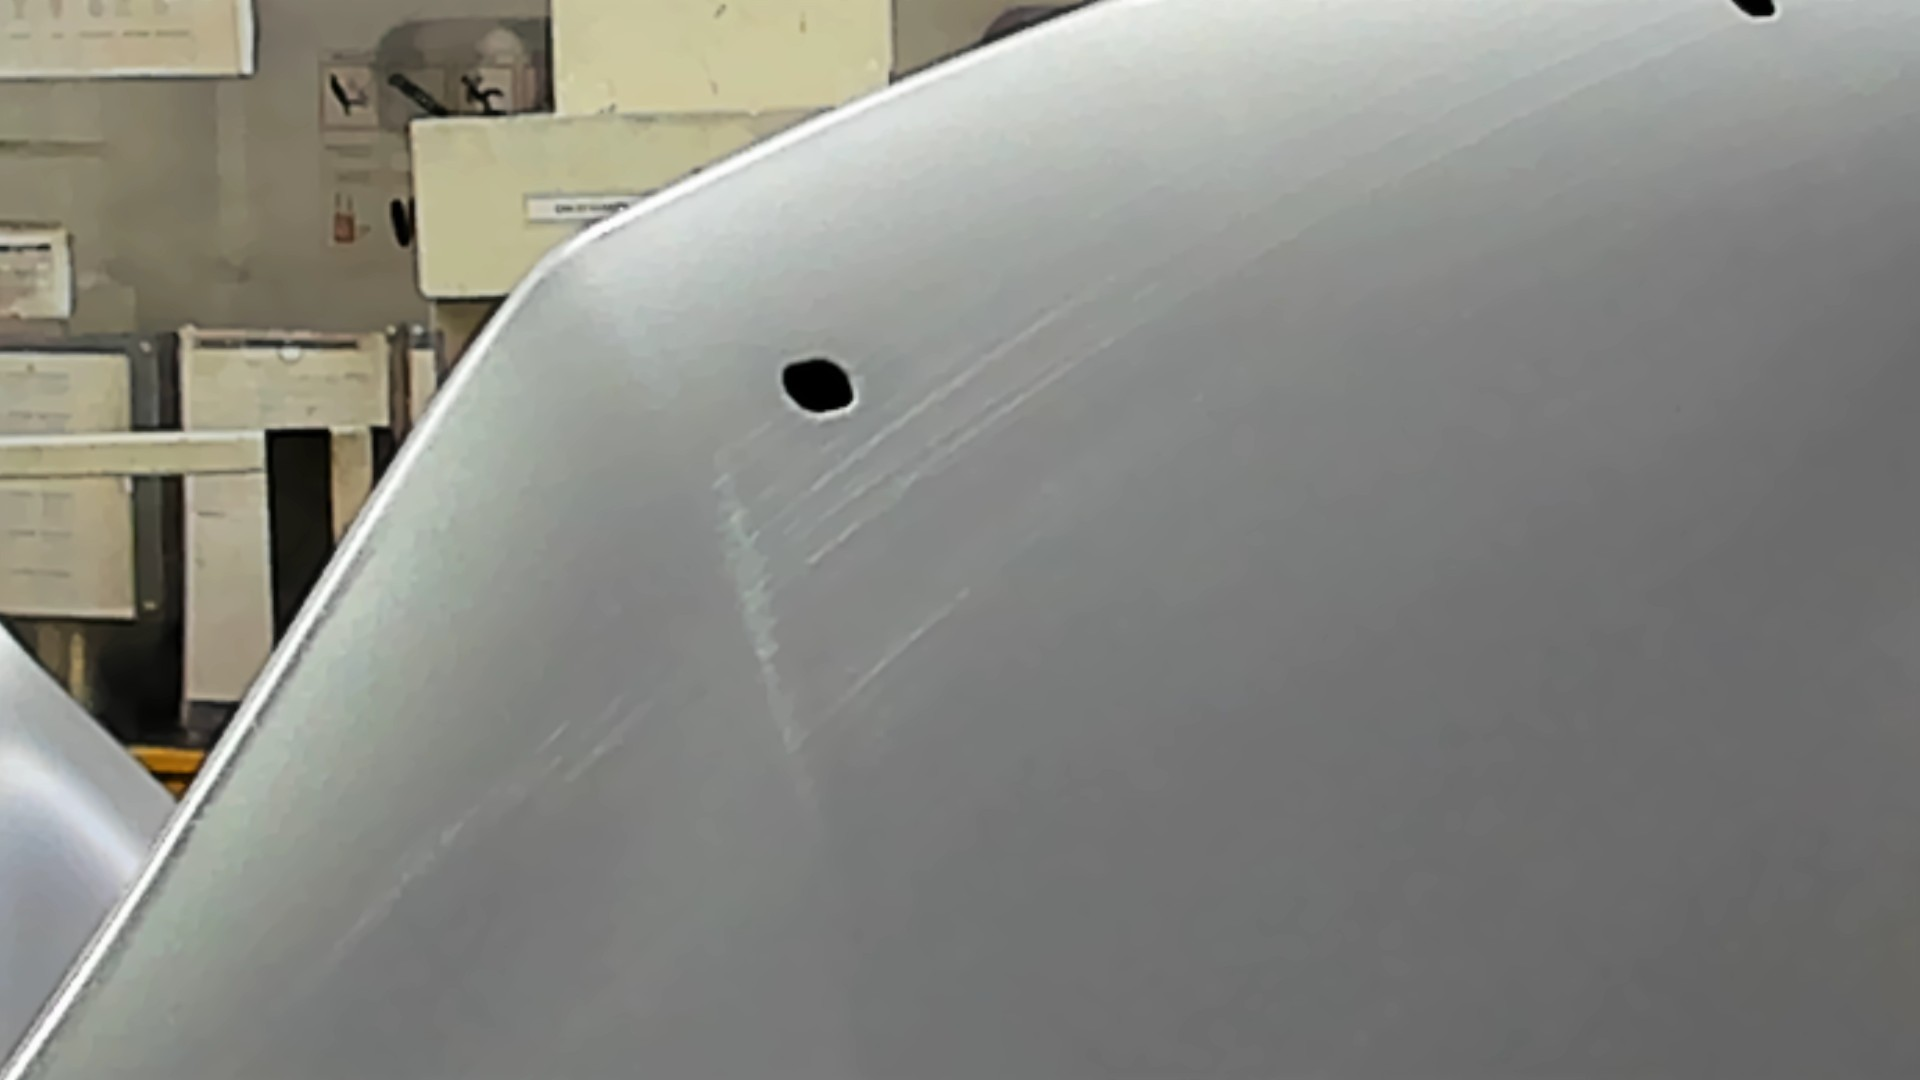amorfo: (779, 353, 861, 419), (1724, 1, 1785, 26)
